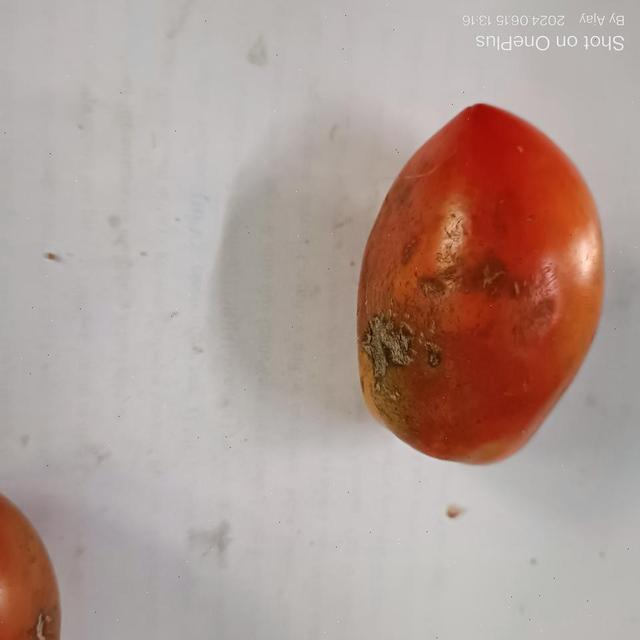Bacterial Spot Fruit: (53, 31, 315, 242)
